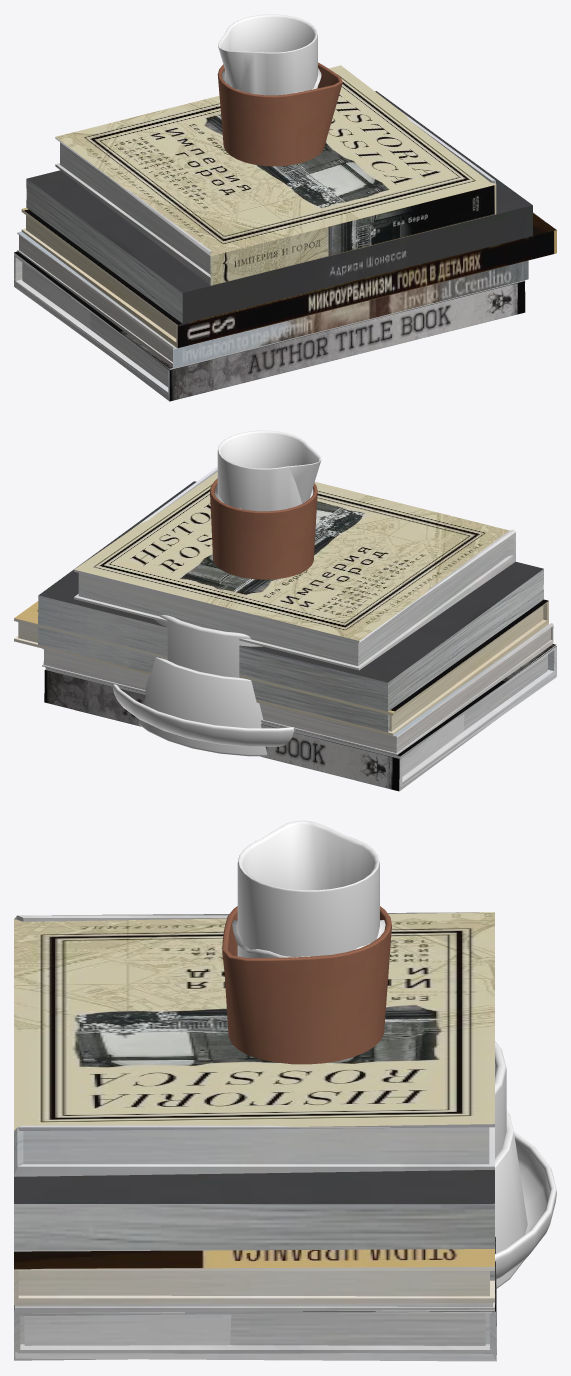
File: Props_1-transformed.glb
The picture shows the model from 3 angles, top to bottom: view 1: azimuth 30°, elevation 25°; view 2: azimuth 150°, elevation 25°; view 3: azimuth 270°, elevation 25°; orthographic projection. The views are drawn at different scales.
Visible parts, largest first — view 1: Cube.008, Cube.011, Cube.009, Cylinder.004, vase 7.001; view 2: Cube.008, Cube.011, Cube.009, vase 7.001, Cylinder.004, Cylinder.003, Cylinder.001; view 3: Cube.008, Cube.011, Cube.009, vase 7.001, Cylinder.004, Cylinder.003, Cylinder.001.
Part boxes in pixels (bbox=[...]): Cube.008: bbox=[55, 65, 496, 285]; Cube.011: bbox=[21, 91, 556, 348]; Cube.009: bbox=[14, 231, 528, 401]; Cylinder.004: bbox=[217, 62, 342, 166]; vase 7.001: bbox=[218, 14, 321, 95]; Cube.008: bbox=[74, 467, 515, 670]; Cube.011: bbox=[14, 481, 548, 736]; Cube.009: bbox=[42, 623, 556, 791]; vase 7.001: bbox=[112, 430, 321, 746]; Cylinder.004: bbox=[210, 478, 317, 579]; Cylinder.003: bbox=[138, 657, 267, 756]; Cylinder.001: bbox=[154, 614, 262, 677]; Cube.008: bbox=[14, 912, 494, 1176]; Cube.011: bbox=[14, 1170, 494, 1305]; Cube.009: bbox=[14, 1237, 496, 1361]; vase 7.001: bbox=[232, 820, 556, 1279]; Cylinder.004: bbox=[222, 906, 391, 1064]; Cylinder.003: bbox=[495, 1110, 527, 1288]; Cylinder.001: bbox=[495, 1041, 506, 1157].
Size of the model in its own units: 0.3572 by 0.2199 by 0.2812.
Materials: 9 (7 with a texture image).
